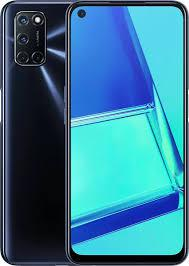Smartphone: (3, 4, 73, 258)
